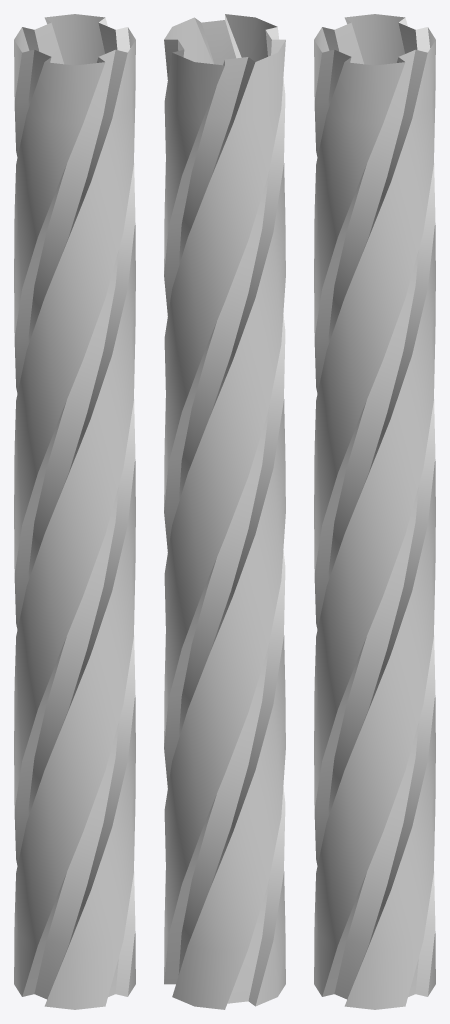
File: turn2_pole.fbx
3 renders of one model, left to right at view 1: azimuth 90°, elevation 25°; view 2: azimuth 150°, elevation 25°; view 3: azimuth 270°, elevation 25°, orthographic.
Parts seen in each view (by area): view 1: Cylinder.006; view 2: Cylinder.006; view 3: Cylinder.006.
Boxes of the visible parts, <box> form: Cylinder.006: <box>14,14,135,1009</box>; Cylinder.006: <box>164,14,285,1009</box>; Cylinder.006: <box>314,14,435,1009</box>.
Bounding box in the file's own units: 293 × 293 × 2500.
